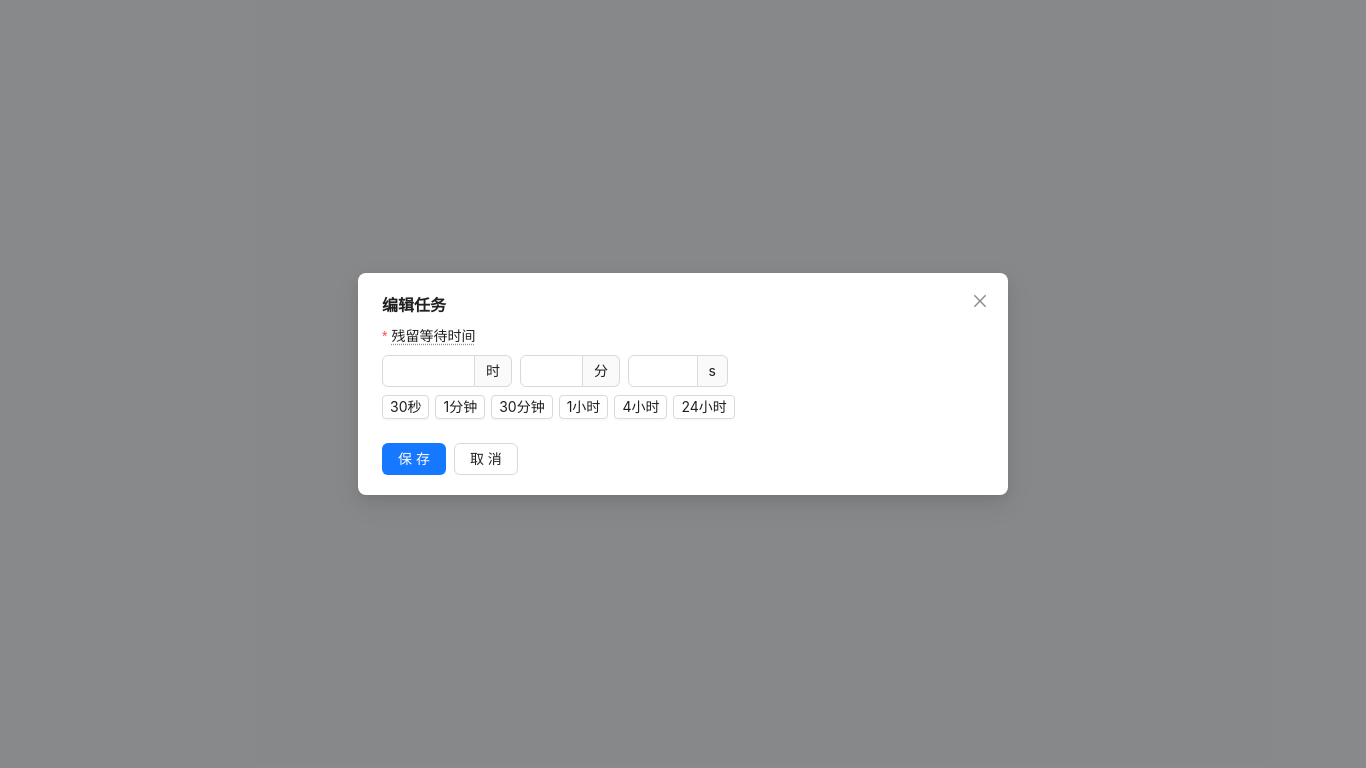
it: required residual waiting duration rejects null
Expected: the number field named "小时" is shown, [383,356,474,386]
Click the button "保 存". click: (414, 459)
box: [382,443,446,475]
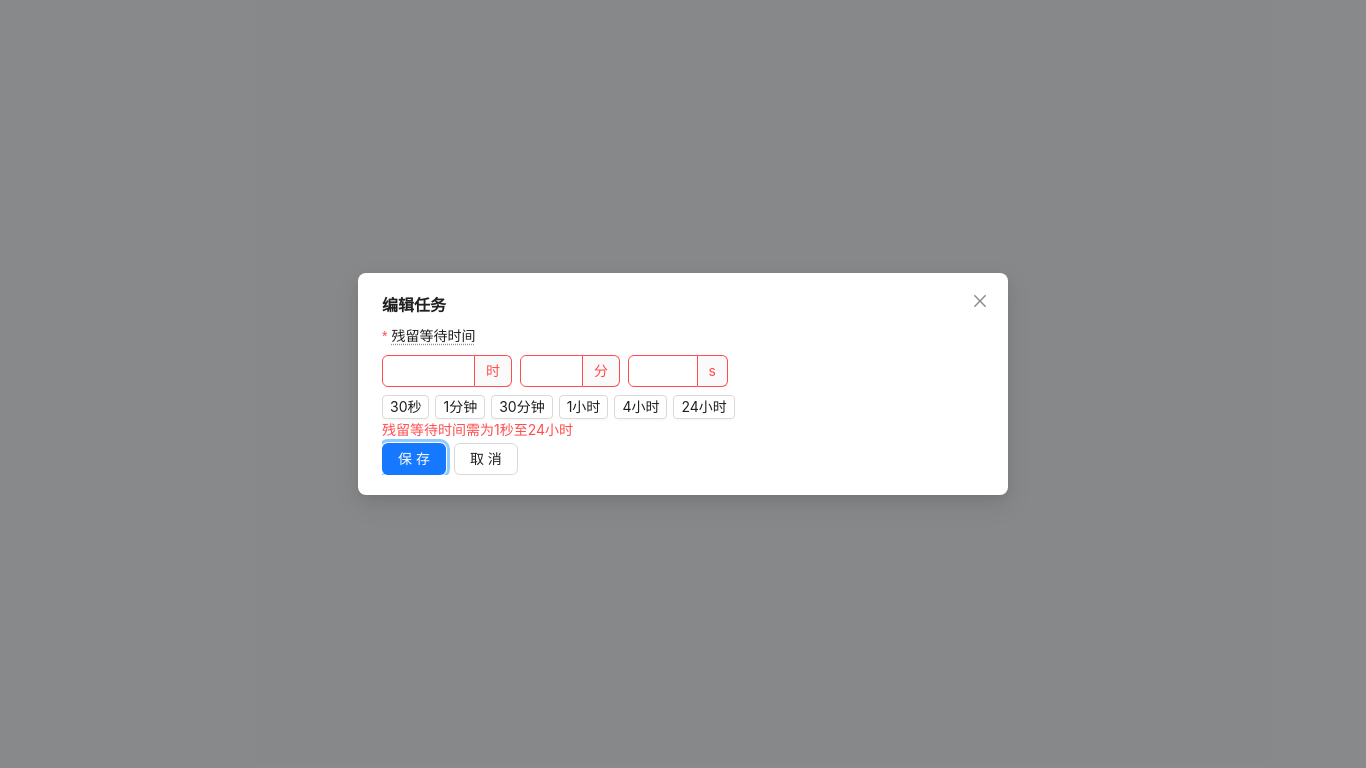
Expected: the text "残留等待时间需为1秒至24小时" is shown, [382,421,573,438]
